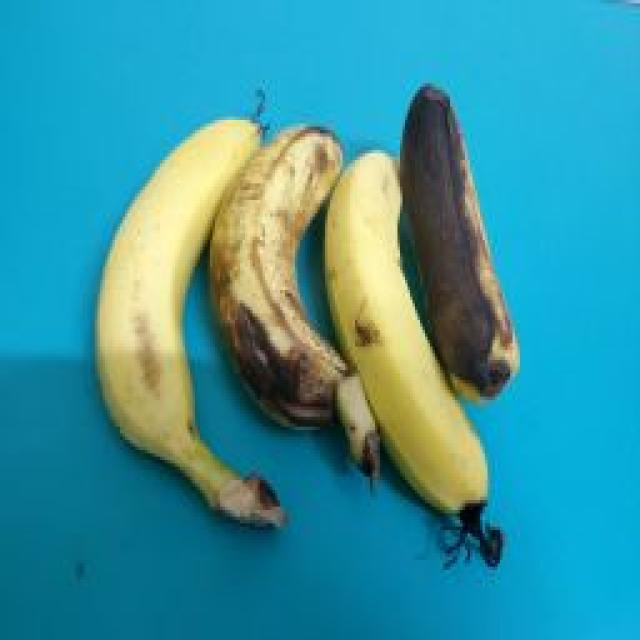Organik: (92, 101, 268, 519), (331, 134, 497, 553), (221, 111, 365, 463), (395, 75, 536, 417)
